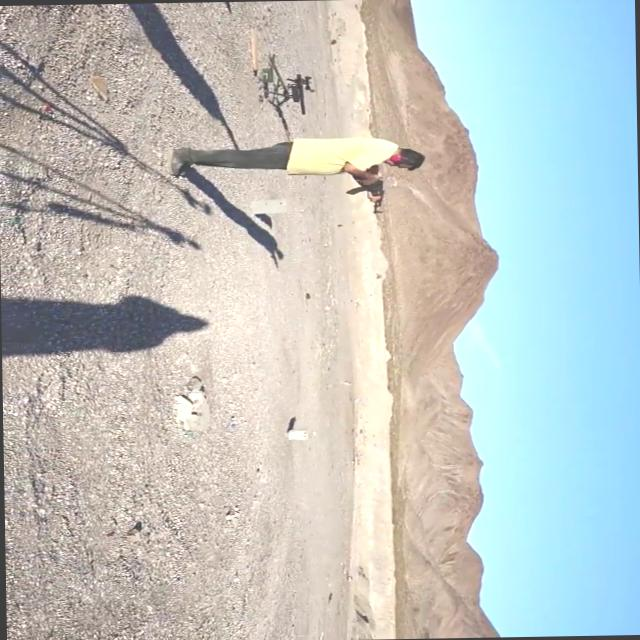long weapon: (342, 156, 398, 228), (263, 65, 327, 122)
